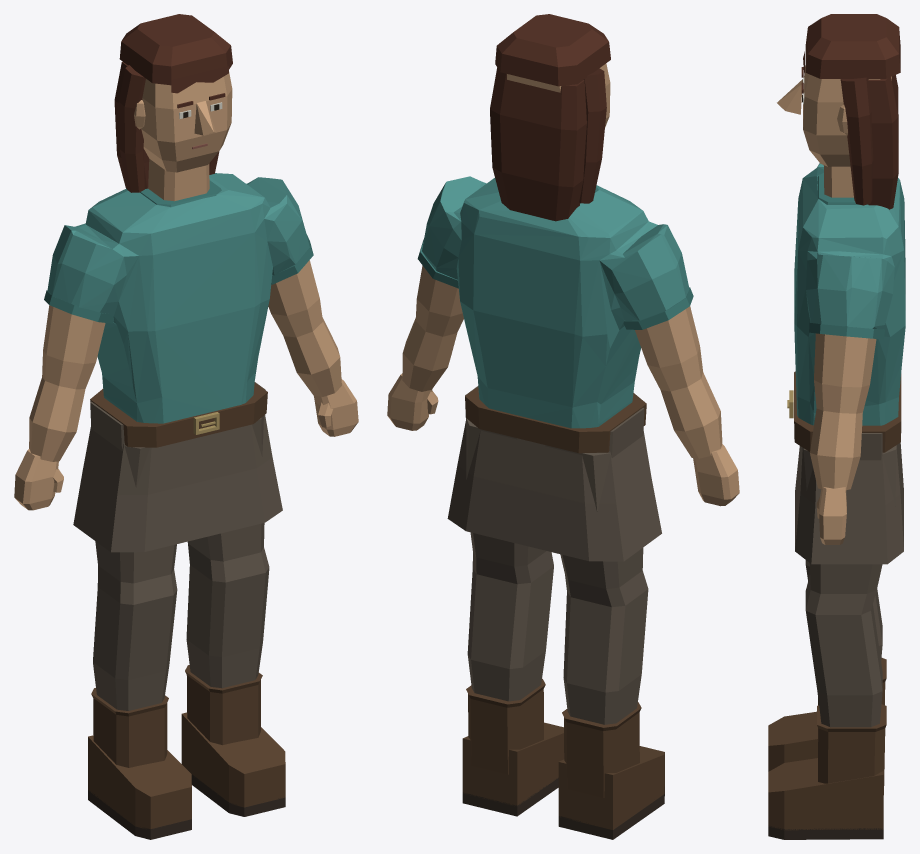
File: Female.glb
3 views of the same model, side by side, from view 1: azimuth 30°, elevation 25°; view 2: azimuth 150°, elevation 25°; view 3: azimuth 270°, elevation 25° (orthographic). The views are drawn at different scales.
Visible parts, largest first — view 1: Female_LowPoly; view 2: Female_LowPoly; view 3: Female_LowPoly.
Part boxes in pixels (x1=…): Female_LowPoly: x1=14, y1=14, x2=358, y2=839; Female_LowPoly: x1=387, y1=14, x2=739, y2=839; Female_LowPoly: x1=768, y1=14, x2=905, y2=839.
Bounding box in the file's own units: 0.882 × 1.91 × 0.3078.
